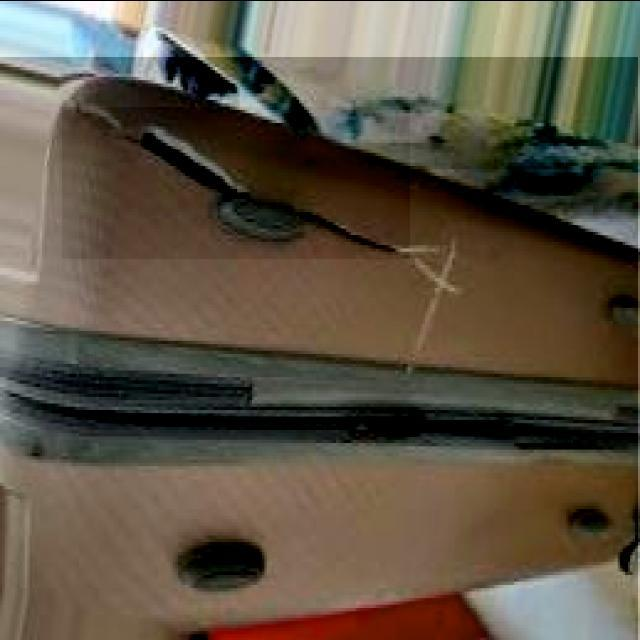Damage-bag: (42, 78, 440, 255)
